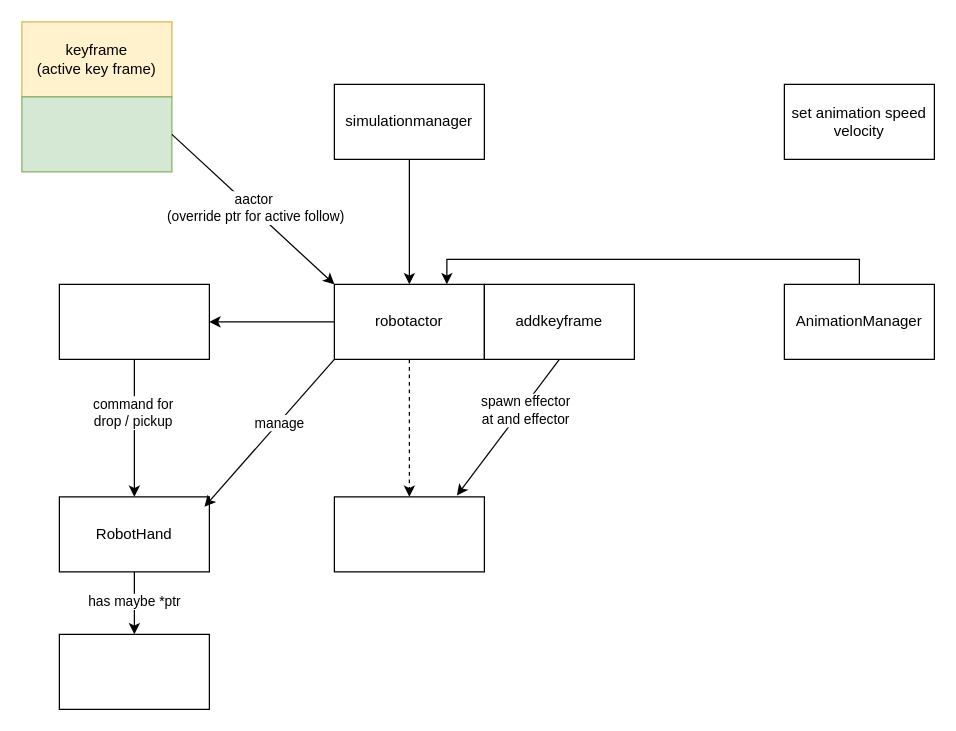
Image size: 956x731. Some labels were removed from this diagram. The shapes that lost their labels are listed below. From the top down, each one's centre as x and y in pixels, then its label:
(x=96, y=134): on event grab: notify robotactor active keyframe
(x=133, y=321): effector keyframe
(x=408, y=534): UKeyFrameAmimation
(x=133, y=671): Pickupable Item
